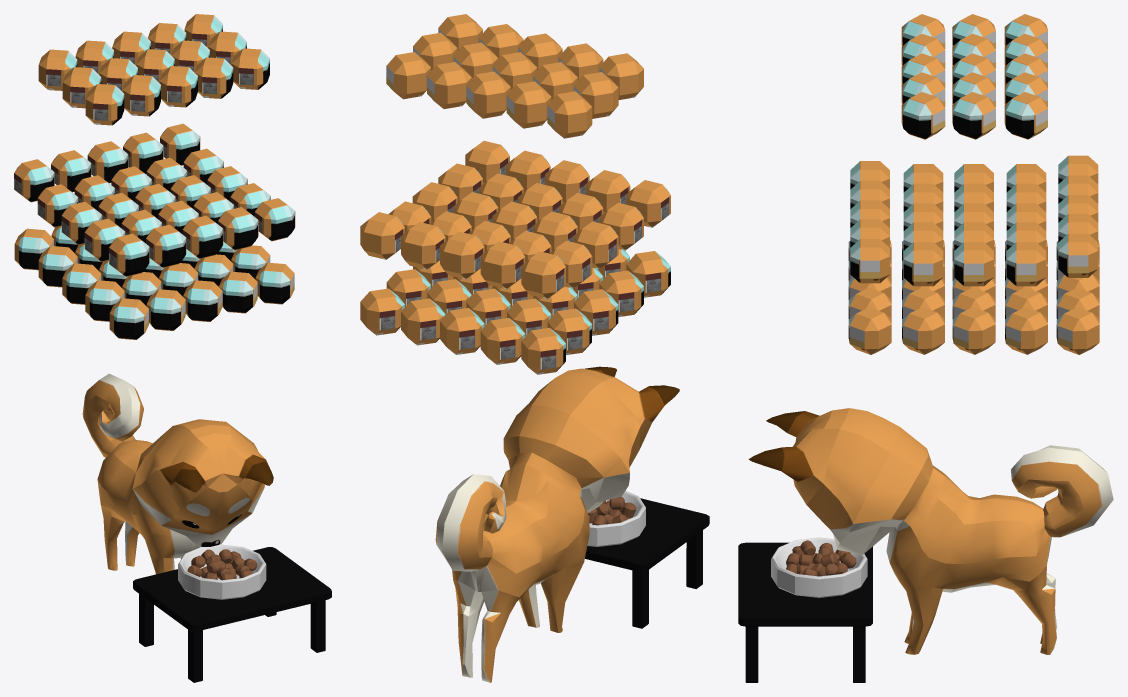
The model's file is fullBowl_frame41.obj.
3 renders of one model, left to right at view 1: azimuth 30°, elevation 25°; view 2: azimuth 150°, elevation 25°; view 3: azimuth 270°, elevation 25°, orthographic. The views are drawn at different scales.
Parts seen in each view (by area): view 1: newRigging1:BodzL1, Tisch:Tisch:pCube1, FressnapfFull:bulletRigidSetSolved1, FressnapfFull:pCube45, FressnapfFull:pCube46, FressnapfFull:pCube57, FressnapfFull:pCube48, FressnapfFull:pCube50, FressnapfFull:pCube43, FressnapfFull:pCube49, FressnapfFull:pCube42, FressnapfFull:pCube36 (+44 smaller); view 2: newRigging1:BodzL1, Tisch:Tisch:pCube1, FressnapfFull:pCube39, FressnapfFull:pCube51, FressnapfFull:pCube64, FressnapfFull:pCube54, FressnapfFull:pCube37, FressnapfFull:pCube61, FressnapfFull:pCube55, FressnapfFull:pCube53, FressnapfFull:pCube41, FressnapfFull:pCube38 (+45 smaller); view 3: newRigging1:BodzL1, Tisch:Tisch:pCube1, FressnapfFull:bulletRigidSetSolved1, FressnapfFull:pCube36, FressnapfFull:pCube4, FressnapfFull:pCube41, FressnapfFull:pCube50, FressnapfFull:pCube55, FressnapfFull:pCube31, FressnapfFull:pCube20, FressnapfFull:pCube10, FressnapfFull:pCube15 (+42 smaller).
Part boxes in pixels (left/top/right/bottom): newRigging1:BodzL1: left=82, top=373, right=273, bottom=574; Tisch:Tisch:pCube1: left=133, top=547, right=331, bottom=682; FressnapfFull:bulletRigidSetSolved1: left=178, top=544, right=266, bottom=599; FressnapfFull:pCube45: left=85, top=84, right=124, bottom=125; FressnapfFull:pCube46: left=109, top=298, right=148, bottom=339; FressnapfFull:pCube57: left=109, top=233, right=149, bottom=276; FressnapfFull:pCube48: left=183, top=280, right=222, bottom=321; FressnapfFull:pCube50: left=255, top=262, right=294, bottom=304; FressnapfFull:pCube43: left=159, top=66, right=197, bottom=107; FressnapfFull:pCube49: left=146, top=289, right=185, bottom=330; FressnapfFull:pCube42: left=122, top=75, right=160, bottom=116; FressnapfFull:pCube36: left=231, top=48, right=269, bottom=89; newRigging1:BodzL1: left=435, top=366, right=679, bottom=682; Tisch:Tisch:pCube1: left=585, top=498, right=709, bottom=628; FressnapfFull:pCube39: left=547, top=91, right=592, bottom=138; FressnapfFull:pCube51: left=521, top=327, right=565, bottom=374; FressnapfFull:pCube64: left=521, top=251, right=565, bottom=298; FressnapfFull:pCube54: left=480, top=318, right=525, bottom=364; FressnapfFull:pCube37: left=506, top=81, right=551, bottom=128; FressnapfFull:pCube61: left=480, top=241, right=525, bottom=289; FressnapfFull:pCube55: left=360, top=288, right=404, bottom=335; FressnapfFull:pCube53: left=440, top=308, right=484, bottom=354; FressnapfFull:pCube41: left=386, top=52, right=430, bottom=99; FressnapfFull:pCube38: left=466, top=71, right=510, bottom=118; newRigging1:BodzL1: left=748, top=408, right=1113, bottom=654; Tisch:Tisch:pCube1: left=738, top=542, right=872, bottom=682; FressnapfFull:bulletRigidSetSolved1: left=771, top=537, right=867, bottom=597; FressnapfFull:pCube36: left=901, top=92, right=945, bottom=139; FressnapfFull:pCube4: left=952, top=307, right=995, bottom=354; FressnapfFull:pCube41: left=1004, top=92, right=1047, bottom=139; FressnapfFull:pCube50: left=848, top=307, right=891, bottom=354; FressnapfFull:pCube55: left=1056, top=307, right=1099, bottom=354; FressnapfFull:pCube31: left=952, top=92, right=995, bottom=139; FressnapfFull:pCube20: left=1006, top=242, right=1046, bottom=286; FressnapfFull:pCube10: left=902, top=307, right=944, bottom=354; FressnapfFull:pCube15: left=1005, top=307, right=1047, bottom=354.
Size of the model in its own units: 5.73 by 16.34 by 9.44.
4 materials, 3 textured.
